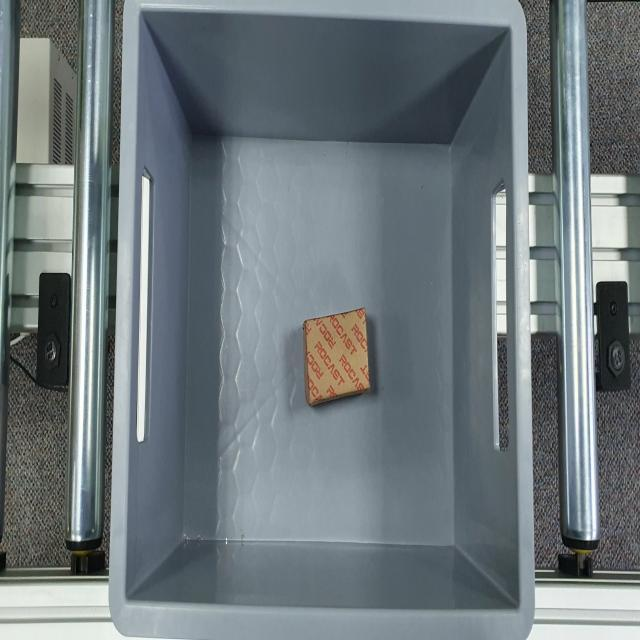box: (303, 304, 373, 404)
